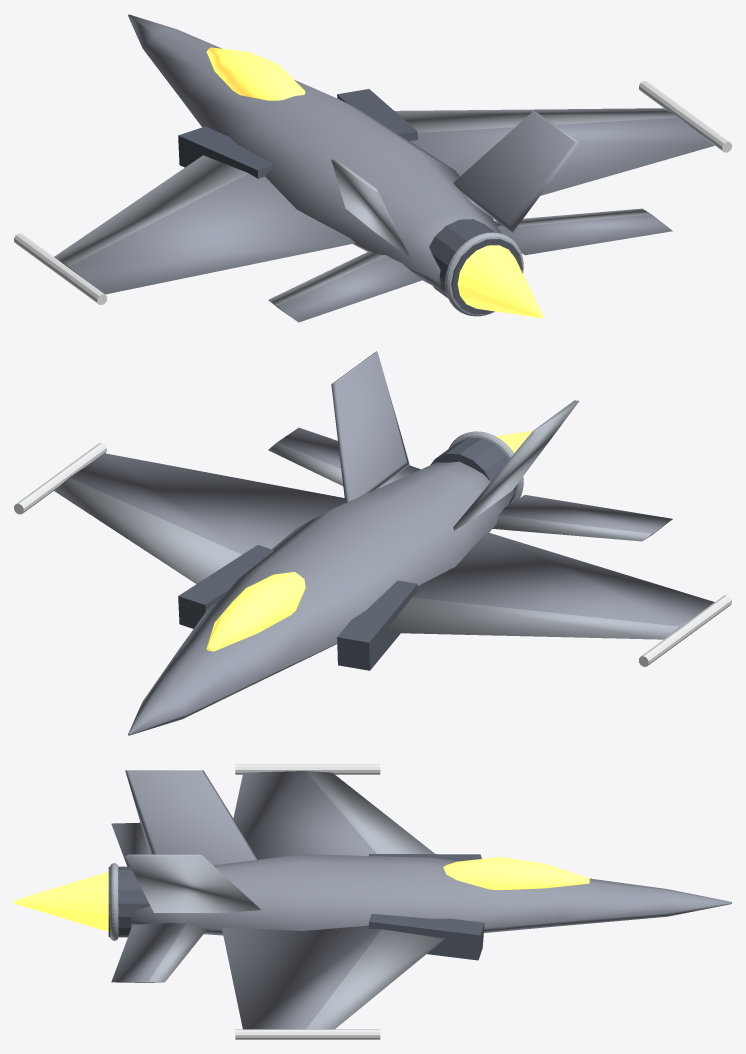
File: F35_Lightning_II.glb
3 views of the same model, one above another, from view 1: azimuth 30°, elevation 25°; view 2: azimuth 150°, elevation 25°; view 3: azimuth 270°, elevation 25° (orthographic). The views are drawn at different scales.
Parts seen in each view (by area): view 1: Fuselaje_F35, Alas_F35_-1.0, Alas_F35_1.0, Deriva_F35_1.0, Tailerons_F35_-1.0, Tailerons_F35_1.0, propulsor, Cabina_F35, Tobera_F135_Shroud, Deriva_F35_-1.0, Cube, Cube.001 (+3 smaller); view 2: Fuselaje_F35, Alas_F35_-1.0, Alas_F35_1.0, Deriva_F35_1.0, Tailerons_F35_-1.0, Cabina_F35, Cube, Deriva_F35_-1.0, Tailerons_F35_1.0, Cube.001, Tobera_F135_Shroud, Cylinder (+2 smaller); view 3: Fuselaje_F35, Alas_F35_1.0, Alas_F35_-1.0, Deriva_F35_-1.0, Deriva_F35_1.0, Tailerons_F35_1.0, Cabina_F35, propulsor, Cube.001, Cylinder.001, Tobera_F135_Shroud, Cylinder (+3 smaller).
Part boxes in pixels (box(x1,y1,x2,y2)): Fuselaje_F35: box(128, 14, 501, 289); Alas_F35_-1.0: box(54, 155, 355, 294); Alas_F35_1.0: box(395, 108, 714, 195); Deriva_F35_1.0: box(453, 110, 579, 232); Tailerons_F35_-1.0: box(268, 251, 421, 322); Tailerons_F35_1.0: box(495, 208, 672, 255); propulsor: box(457, 245, 543, 318); Cabina_F35: box(206, 47, 305, 100); Tobera_F135_Shroud: box(429, 219, 522, 314); Deriva_F35_-1.0: box(331, 159, 409, 257); Cube: box(178, 126, 274, 178); Cube.001: box(337, 89, 417, 140); Fuselaje_F35: box(128, 461, 515, 735); Alas_F35_-1.0: box(384, 532, 714, 639); Alas_F35_1.0: box(54, 453, 345, 583); Deriva_F35_1.0: box(331, 351, 409, 502); Tailerons_F35_-1.0: box(492, 495, 672, 541); Cabina_F35: box(206, 572, 305, 651); Cube: box(337, 580, 417, 670); Deriva_F35_-1.0: box(453, 400, 579, 530); Tailerons_F35_1.0: box(268, 427, 420, 487); Cube.001: box(178, 545, 274, 628); Tobera_F135_Shroud: box(430, 437, 516, 504); Cylinder: box(639, 595, 731, 666); Fuselaje_F35: box(130, 854, 731, 935); Alas_F35_1.0: box(222, 925, 444, 1029); Alas_F35_-1.0: box(233, 771, 434, 859); Deriva_F35_-1.0: box(125, 770, 258, 865); Deriva_F35_1.0: box(125, 854, 260, 912); Tailerons_F35_1.0: box(111, 922, 207, 982); Cabina_F35: box(443, 857, 589, 890); propulsor: box(14, 872, 108, 931); Cube.001: box(368, 914, 484, 960); Cylinder.001: box(235, 1029, 380, 1039); Tobera_F135_Shroud: box(108, 866, 150, 937); Cylinder: box(235, 764, 380, 774).
Bounding box in the file's own units: 5.93 × 1.28 × 6.69.
